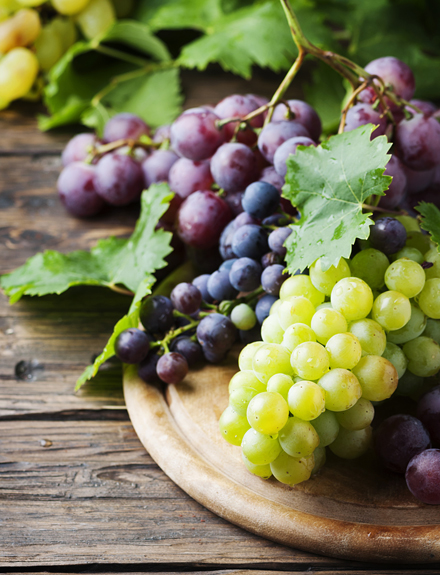Green grapes: (242, 252, 438, 476)
Red Grapes: (57, 121, 295, 210)
